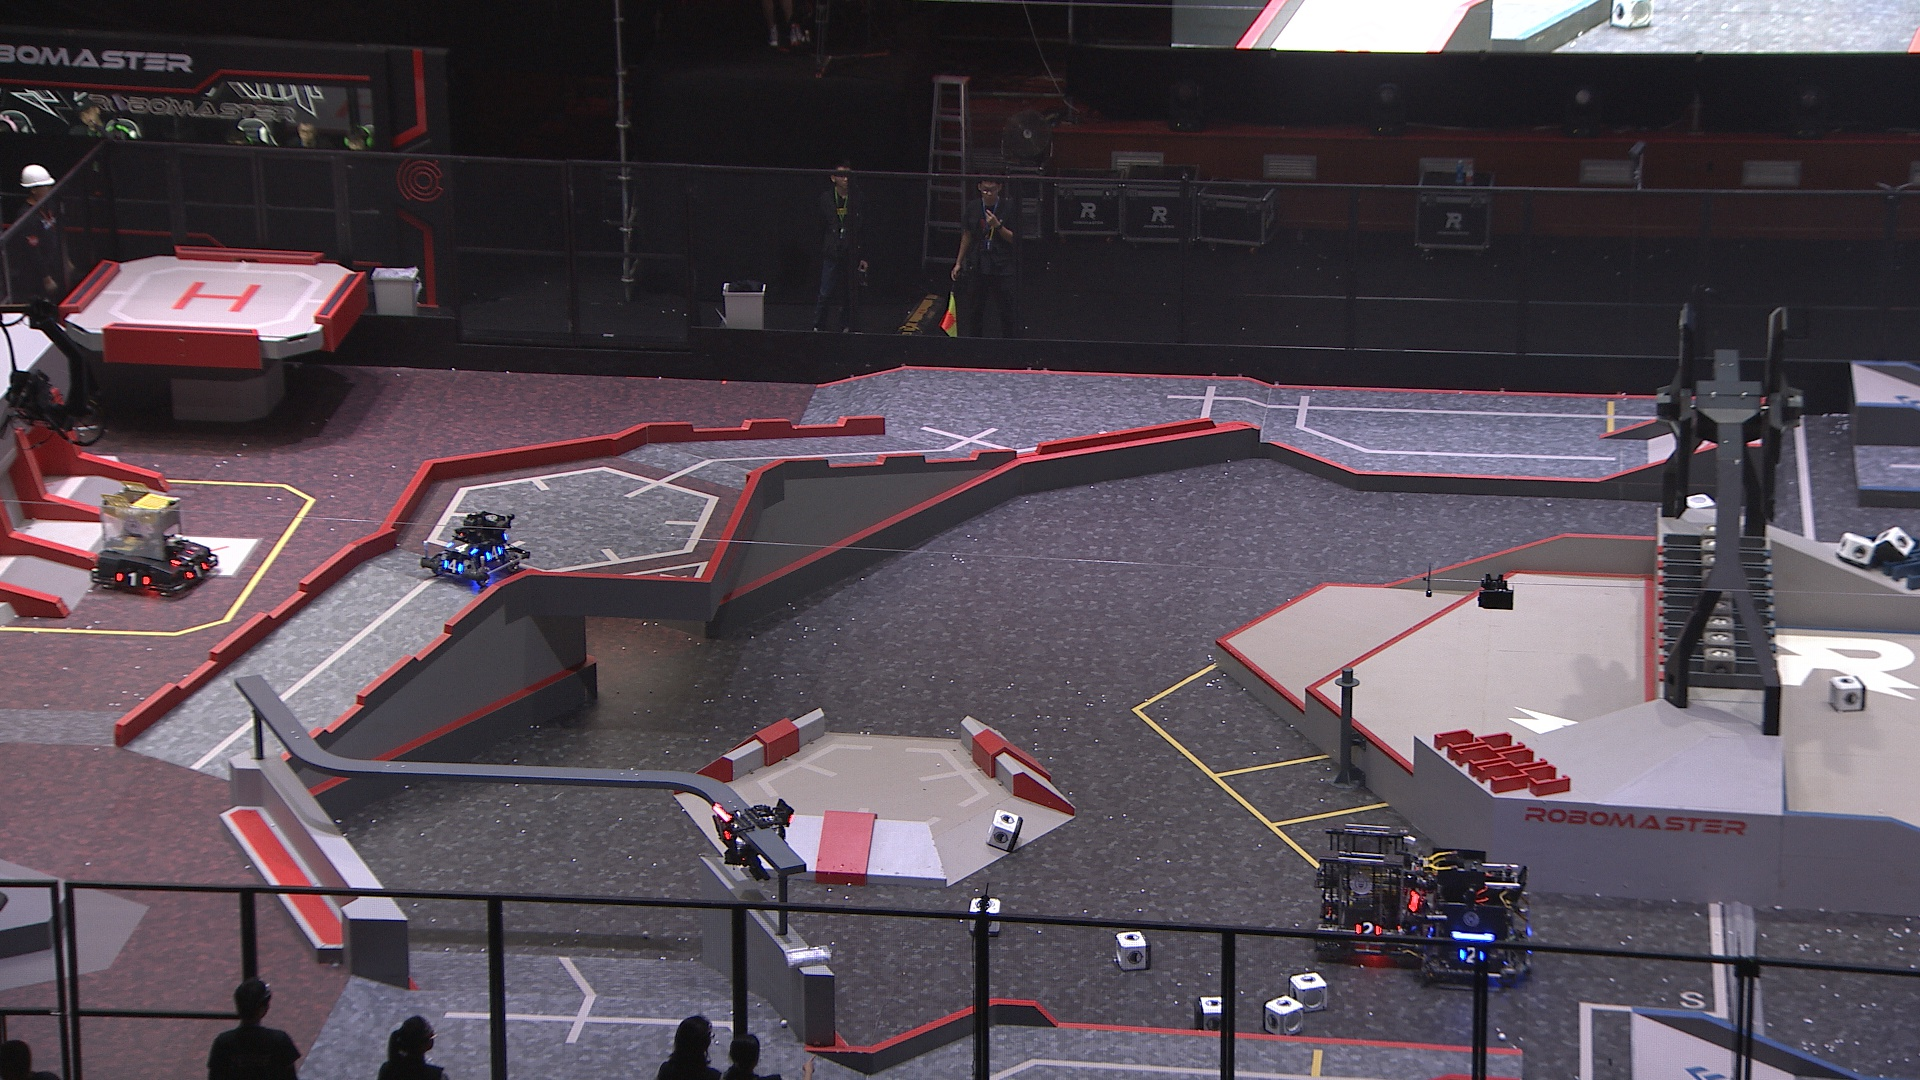armor: (442, 538, 483, 556), (709, 815, 735, 843), (112, 571, 152, 588), (1457, 943, 1486, 965), (182, 559, 208, 582), (481, 542, 508, 564), (167, 549, 196, 567), (1356, 920, 1381, 938), (443, 559, 465, 575)
car: (1410, 845, 1542, 989), (88, 480, 223, 600), (1309, 822, 1423, 963), (417, 508, 531, 591)
watcher: (707, 798, 795, 882)
